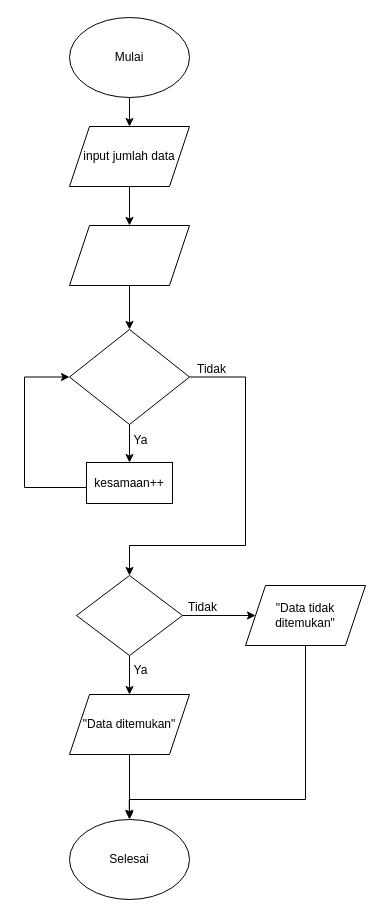
The diagram is 383 pixels wide and 917 high, and some of its shapes have lost their labels. Each missing label, with the box of its shape:
i <= 10: (68, 328, 190, 424)
input data: (68, 224, 190, 286)
kesamaan > 0: (76, 574, 182, 656)
